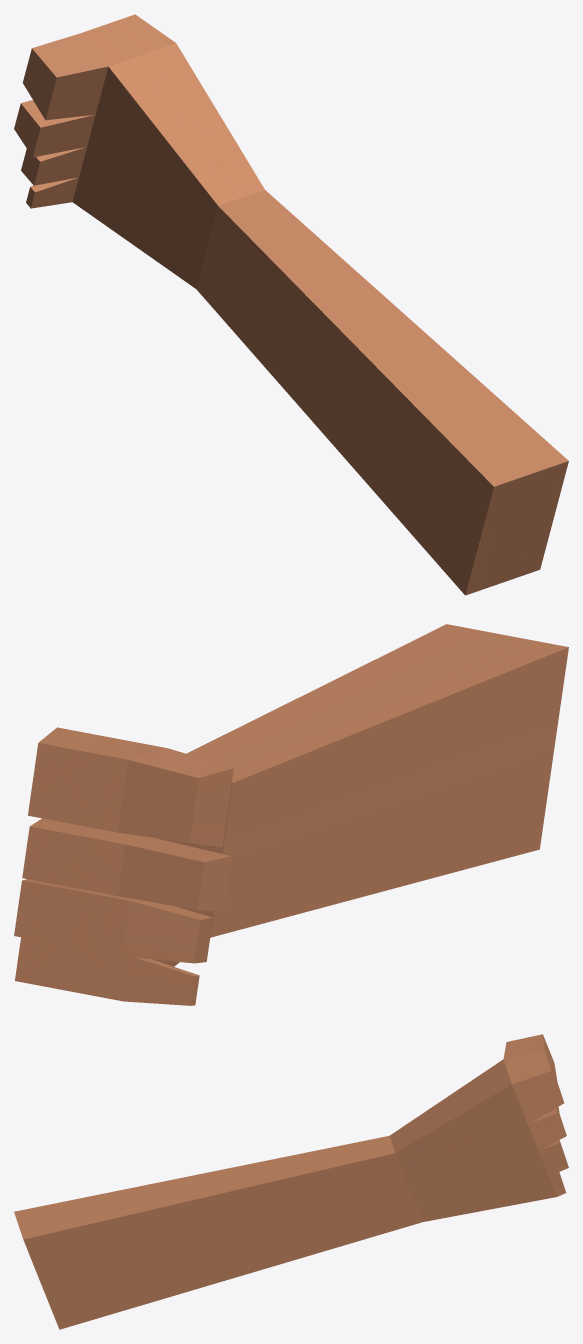
The model's file is jjkvr_hand_right.obj.
3 views of the same model, one above another, from view 1: azimuth 30°, elevation 25°; view 2: azimuth 150°, elevation 25°; view 3: azimuth 270°, elevation 25° (orthographic). The views are drawn at different scales.
Visible parts, largest first — view 1: jjkvr_hand_right; view 2: jjkvr_hand_right; view 3: jjkvr_hand_right.
Part boxes in pixels (x1,y1,x2,y2): jjkvr_hand_right: (14, 14, 568, 595); jjkvr_hand_right: (14, 624, 568, 1005); jjkvr_hand_right: (14, 1034, 568, 1329).
Size of the model in its own units: 0.0578 by 0.0955 by 0.2031.
1 material, 1 textured.
